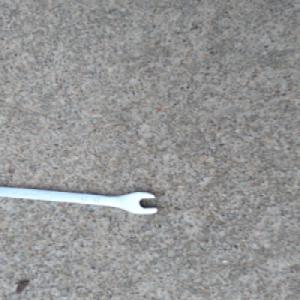Wrench: (0, 184, 161, 215)
